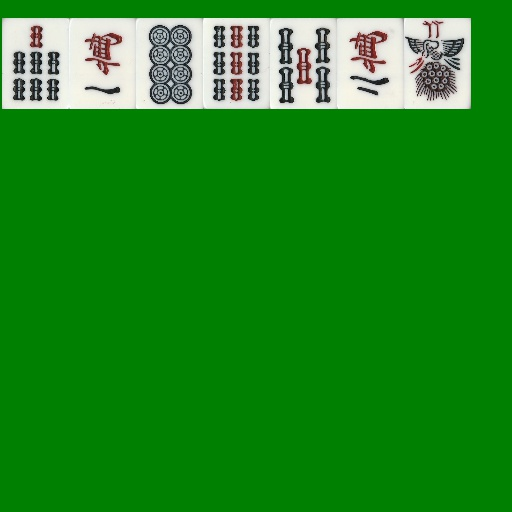1m: (69, 18, 136, 109)
1s: (404, 18, 471, 109)
2m: (337, 18, 404, 109)
5s: (270, 18, 337, 109)
7s: (2, 18, 69, 109)
8p: (136, 18, 203, 109)
9s: (203, 18, 270, 109)
